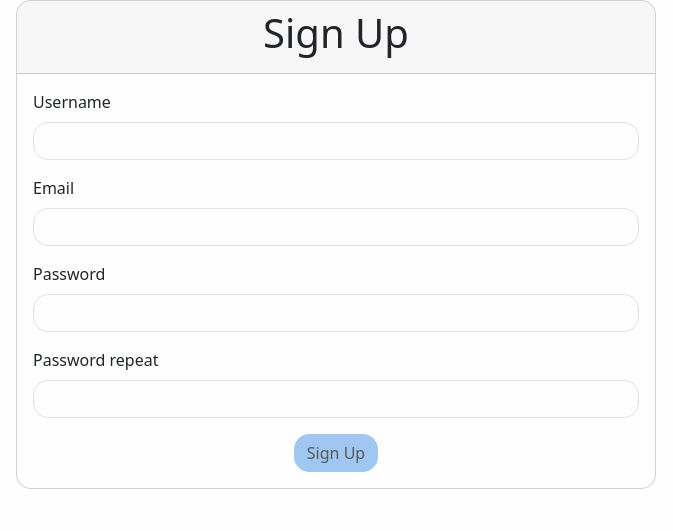
Scenario: Sign Up › when user sets same value for password inputs › when there is an ongoing API call › displays spinner
The image size is (673, 531).
Step 1. Type "user1" into the field labelled "Username" → (336, 141), box 33,122 -> 639,160
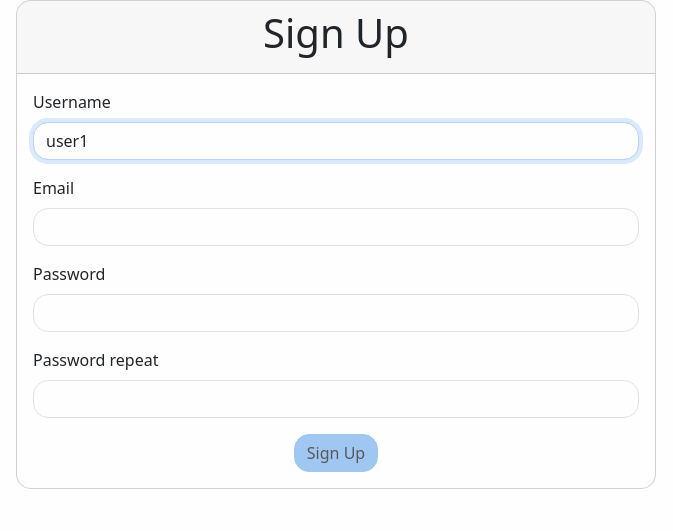
Step 2. Type "user1@mail.com" into the field labelled "Email" → (336, 227), box 33,208 -> 639,246
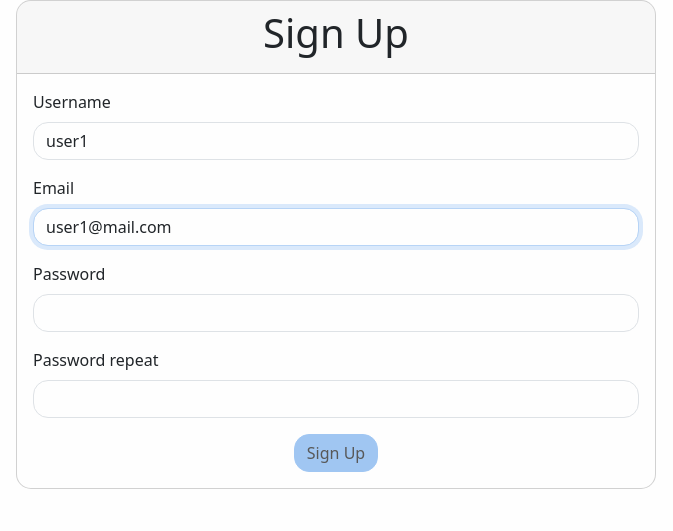
Step 3. Type "P4ssword" into the password field labelled "Password" → (336, 313), box 33,294 -> 639,332
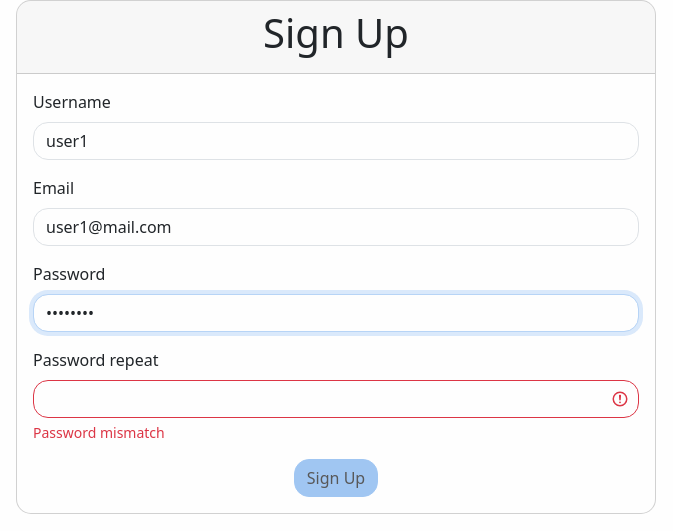
Step 4. Type "P4ssword" into the password field labelled "Password repeat" → (336, 399), box 33,380 -> 639,418
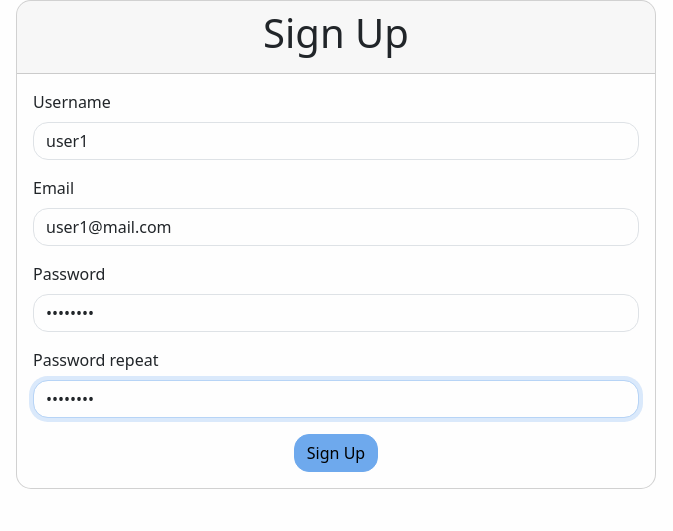
Step 5. Click the button "Sign Up" → (336, 453), box 294,434 -> 378,472
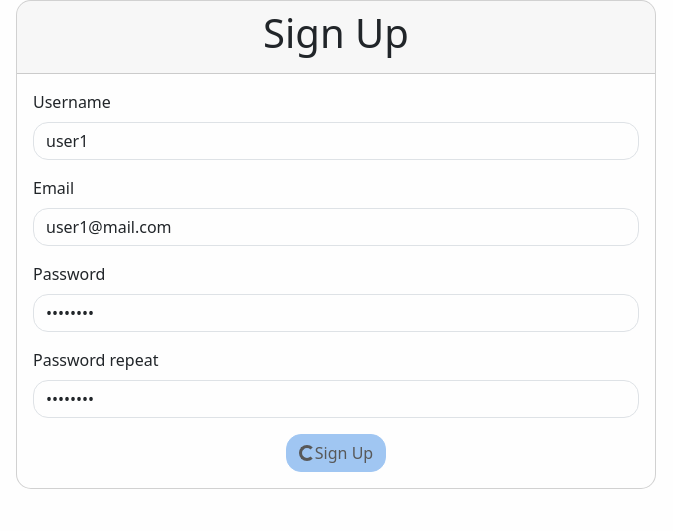
Expected: the message is shown, 299,445 -> 315,461
